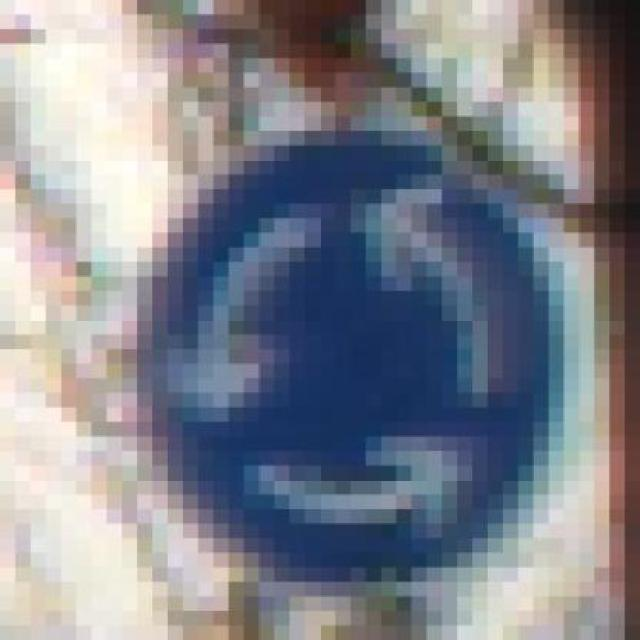Round-About: (76, 116, 595, 582)
